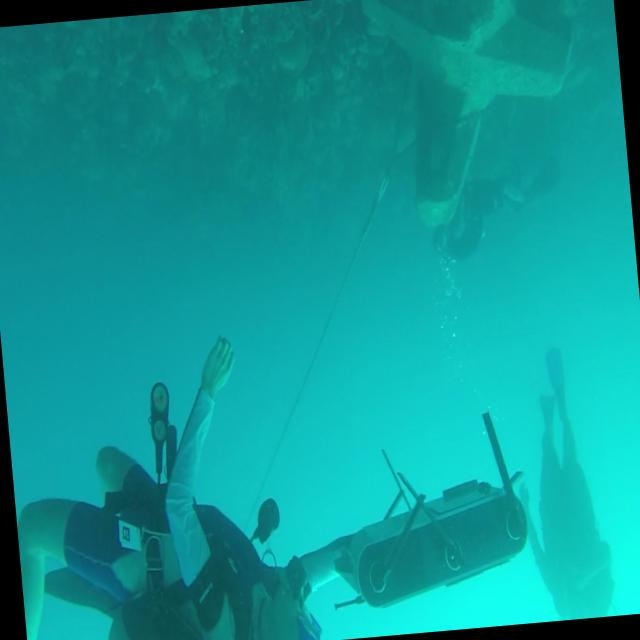human: (2, 329, 324, 640), (507, 344, 618, 623), (427, 154, 568, 266)
